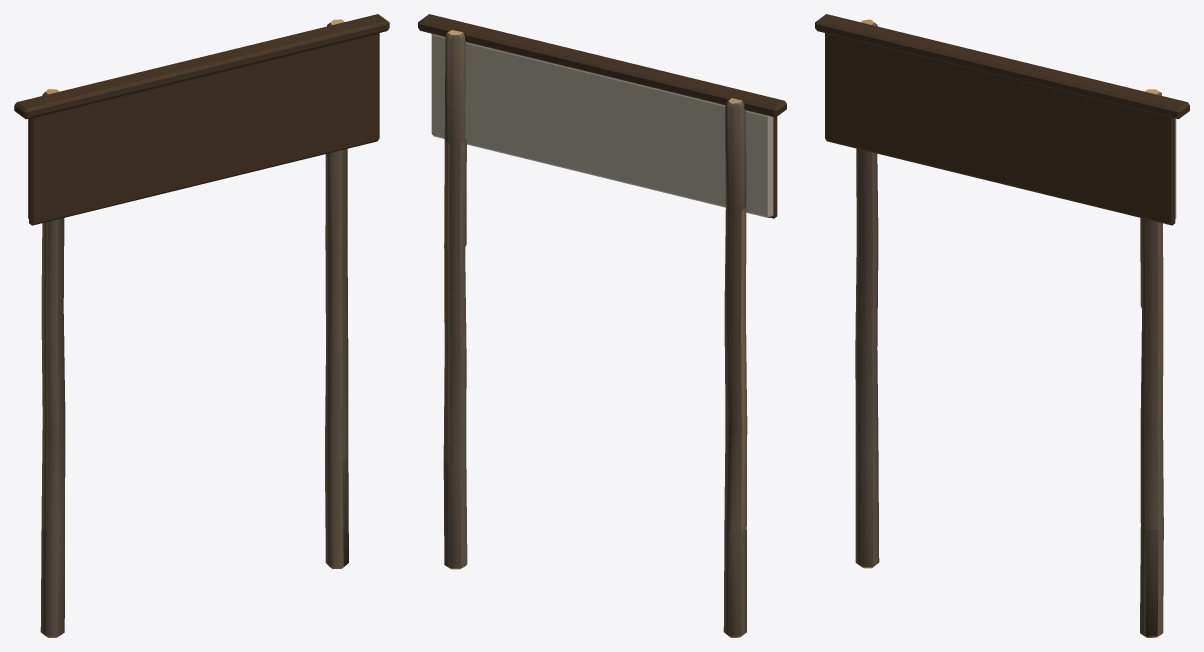
The model's file is signboard.glb.
3 renders of one model, left to right at view 1: azimuth 30°, elevation 25°; view 2: azimuth 150°, elevation 25°; view 3: azimuth 330°, elevation 25°, orthographic.
Visible parts, largest first — view 1: plank-sign-001, wood-001; view 2: plank-sign-001, wood-001; view 3: plank-sign-001, wood-001.
Boxes of the visible parts, x1,y1,x2,y2 form: plank-sign-001: [14, 14, 389, 225]; wood-001: [40, 19, 348, 637]; plank-sign-001: [418, 14, 786, 218]; wood-001: [443, 30, 747, 637]; plank-sign-001: [815, 14, 1189, 225]; wood-001: [855, 19, 1163, 637].
Size of the model in its own units: 1.8 by 2.56 by 0.1648.
